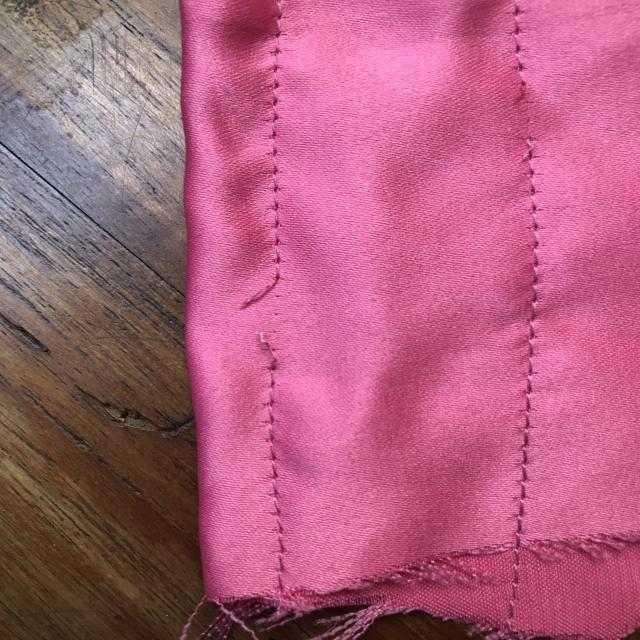broken: (226, 258, 301, 375)
